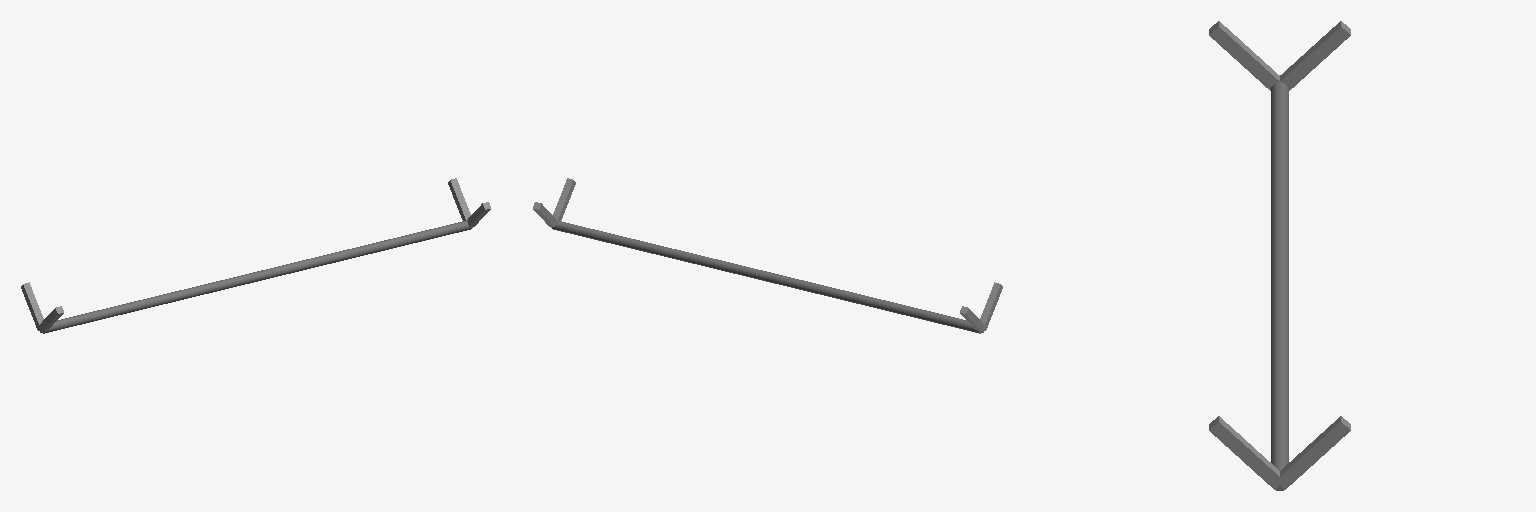
robot.urdf — laid_down_cylinder_with_two_stands:
<?xml version="1.0"?>
<robot name="laid_down_cylinder_with_two_stands">

  <!-- ================= Cylinder Link ================= -->
  <link name="cylinder_link">
    <inertial>
      <origin xyz="0 0 0" rpy="0 1.5708 0"/>
      <mass value="0.05"/>
      <inertia
        ixx="0.00010"  ixy="0.0"    ixz="0.0"
        iyy="0.04172"  iyz="0.0"
        izz="0.04172"/>
    </inertial>
    <visual>
      <origin xyz="0 0 0" rpy="0 1.5708 0"/>
      <geometry>
        <cylinder radius="0.02" length="2.0"/>
      </geometry>
      <material name="SmoothWhite">
        <color rgba="0.5 0.5 0.5 1.0"/>
      </material>
    </visual>
    <collision>
      <origin xyz="0 0 0" rpy="0 1.5708 0"/>
      <geometry>
        <cylinder radius="0.02" length="2.0"/>
      </geometry>
    </collision>
  </link>

  <!-- ================ Stand #1 (at x = -0.1) ================ -->
  <link name="left_cuboid_end1">
    <inertial>
      <origin xyz="0 0 -0.1" rpy="0 0 0"/>
      <mass value="0.1"/>
      <inertia
        ixx="0.0001704" ixy="0.0"    ixz="0.0"
        iyy="0.0001704" iyz="0.0"
        izz="0.0000075"/>
    </inertial>
    <visual>
      <origin xyz="0 0 -0.1" rpy="0 0 0"/>
      <geometry>
        <box size="0.03 0.03 0.2"/>
      </geometry>
      <material name="Gray">
        <color rgba="0.6 0.6 0.6 0"/>
      </material>
    </visual>
    <collision>
      <origin xyz="0 0 -0.1" rpy="0 0 0"/>
      <geometry>
        <box size="0.03 0.03 0.2"/>
      </geometry>
    </collision>
  </link>

  <link name="right_cuboid_end1">
    <inertial>
      <origin xyz="0 0 -0.1" rpy="0 0 0"/>
      <mass value="0.1"/>
      <inertia
        ixx="0.0001704" ixy="0.0"    ixz="0.0"
        iyy="0.0001704" iyz="0.0"
        izz="0.0000075"/>
    </inertial>
    <visual>
      <origin xyz="0 0 -0.1" rpy="0 0 0"/>
      <geometry>
        <box size="0.03 0.03 0.2"/>
      </geometry>
      <material name="Gray">
        <color rgba="0.6 0.6 0.6 0"/>
      </material>
    </visual>
    <collision>
      <origin xyz="0 0 -0.1" rpy="0 0 0"/>
      <geometry>
        <box size="0.03 0.03 0.2"/>
      </geometry>
    </collision>
  </link>

  <!-- ================ Stand #2 (at x = +0.1) ================ -->
  <link name="left_cuboid_end2">
    <inertial>
      <origin xyz="0 0 -0.1" rpy="0 0 0"/>
      <mass value="0.1"/>
      <inertia
        ixx="0.0001704" ixy="0.0"    ixz="0.0"
        iyy="0.0001704" iyz="0.0"
        izz="0.0000075"/>
    </inertial>
    <visual>
      <origin xyz="0 0 -0.1" rpy="0 0 0"/>
      <geometry>
        <box size="0.03 0.03 0.2"/>
      </geometry>
      <material name="Gray">
        <color rgba="0.6 0.6 0.6 0"/>
      </material>
    </visual>
    <collision>
      <origin xyz="0 0 -0.1" rpy="0 0 0"/>
      <geometry>
        <box size="0.03 0.03 0.2"/>
      </geometry>
    </collision>
  </link>

  <link name="right_cuboid_end2">
    <inertial>
      <origin xyz="0 0 -0.1" rpy="0 0 0"/>
      <mass value="0.1"/>
      <inertia
        ixx="0.0001704" ixy="0.0"    ixz="0.0"
        iyy="0.0001704" iyz="0.0"
        izz="0.0000075"/>
    </inertial>
    <visual>
      <origin xyz="0 0 -0.1" rpy="0 0 0"/>
      <geometry>
        <box size="0.03 0.03 0.2"/>
      </geometry>
      <material name="Gray">
        <color rgba="0.6 0.6 0.6 0"/>
      </material>
    </visual>
    <collision>
      <origin xyz="0 0 -0.1" rpy="0 0 0"/>
      <geometry>
        <box size="0.03 0.03 0.2"/>
      </geometry>
    </collision>
  </link>

  <!-- =================== Joints =================== -->
  <joint name="cyl_to_left_end1" type="fixed">
    <parent link="cylinder_link"/>
    <child  link="left_cuboid_end1"/>
    <origin xyz="-1.0 0 0" rpy="0 2.3562 -1.5708"/>
  </joint>
  <joint name="cyl_to_right_end1" type="fixed">
    <parent link="cylinder_link"/>
    <child  link="right_cuboid_end1"/>
    <origin xyz="-1.0 0 0" rpy="0 -2.3562 -1.5708"/>
  </joint>
  <joint name="cyl_to_left_end2" type="fixed">
    <parent link="cylinder_link"/>
    <child  link="left_cuboid_end2"/>
    <origin xyz="1.0 0 0" rpy="0 2.3562 1.5708"/>
  </joint>
  <joint name="cyl_to_right_end2" type="fixed">
    <parent link="cylinder_link"/>
    <child  link="right_cuboid_end2"/>
    <origin xyz="1.0 0 0" rpy="0 -2.3562 1.5708"/>
  </joint>

</robot>

--- Render facts (derived) ---
Views: 3 orthographic renders of the robot side by side, from view 1: azimuth 30°, elevation 25°; view 2: azimuth 150°, elevation 25°; view 3: azimuth 270°, elevation 25°.
Model laid_down_cylinder_with_two_stands with 5 links and 4 joints (4 fixed), rooted at cylinder_link, posed all joints at 0.
Links seen in each view (by area): view 1: cylinder_link; view 2: cylinder_link; view 3: cylinder_link, left_cuboid_end2, right_cuboid_end2, left_cuboid_end1, right_cuboid_end1.
Link boxes in pixels (left/top/right/bottom): cylinder_link: left=43, top=221, right=471, bottom=333; cylinder_link: left=552, top=221, right=980, bottom=333; cylinder_link: left=1271, top=82, right=1288, bottom=490; left_cuboid_end2: left=1209, top=416, right=1284, bottom=489; right_cuboid_end2: left=1278, top=416, right=1350, bottom=489; left_cuboid_end1: left=1280, top=21, right=1350, bottom=90; right_cuboid_end1: left=1209, top=21, right=1279, bottom=90.
Bounding box of the posed robot: 2.03 × 0.3041 × 0.172 m (x, y, z).
Geometry: primitives only (box / cylinder / sphere), no mesh files.
